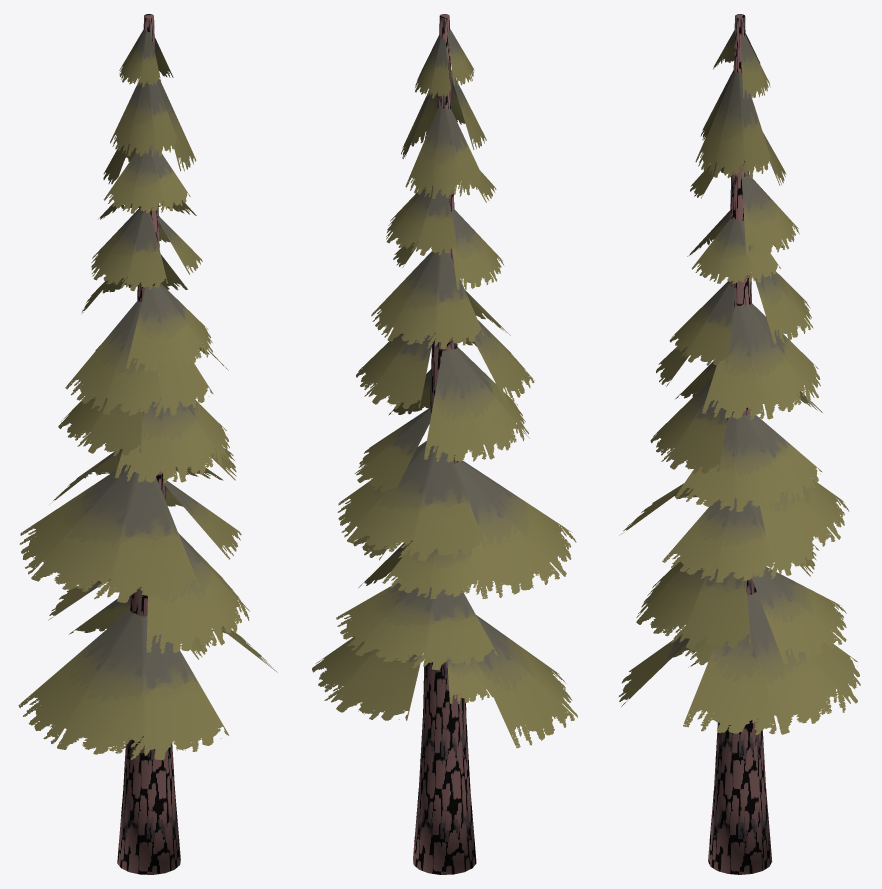
The model's file is pine_tree_test.glb.
3 views of the same model, side by side, from view 1: azimuth 30°, elevation 25°; view 2: azimuth 150°, elevation 25°; view 3: azimuth 270°, elevation 25° (orthographic).
Visible parts, largest first — view 1: Cube.001, Cube.002-col; view 2: Cube.001, Cube.002-col; view 3: Cube.001, Cube.002-col.
Part boxes in pixels (bbox=[...]): Cube.001: bbox=[18, 30, 277, 759]; Cube.002-col: bbox=[117, 14, 180, 874]; Cube.001: bbox=[312, 29, 577, 748]; Cube.002-col: bbox=[413, 14, 476, 874]; Cube.001: bbox=[618, 30, 860, 734]; Cube.002-col: bbox=[708, 14, 772, 874].
Bounding box in the file's own units: 11.64 × 40 × 11.14.
2 materials, 2 textured.
